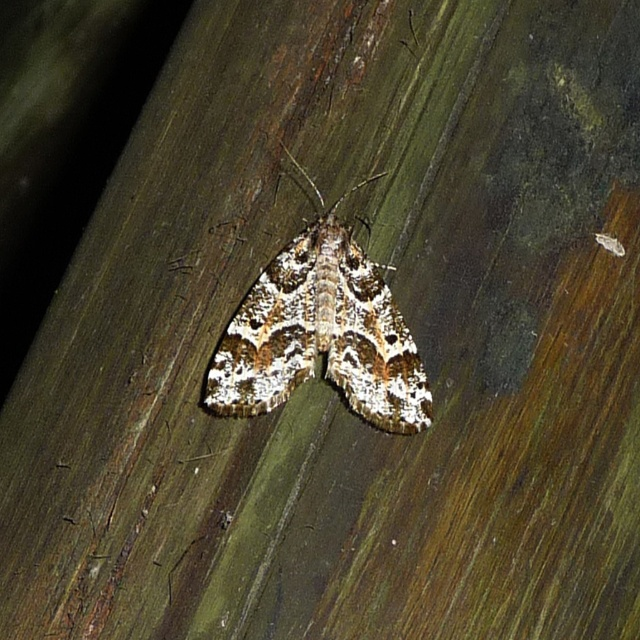Moths and butterflies: (202, 139, 436, 436)
